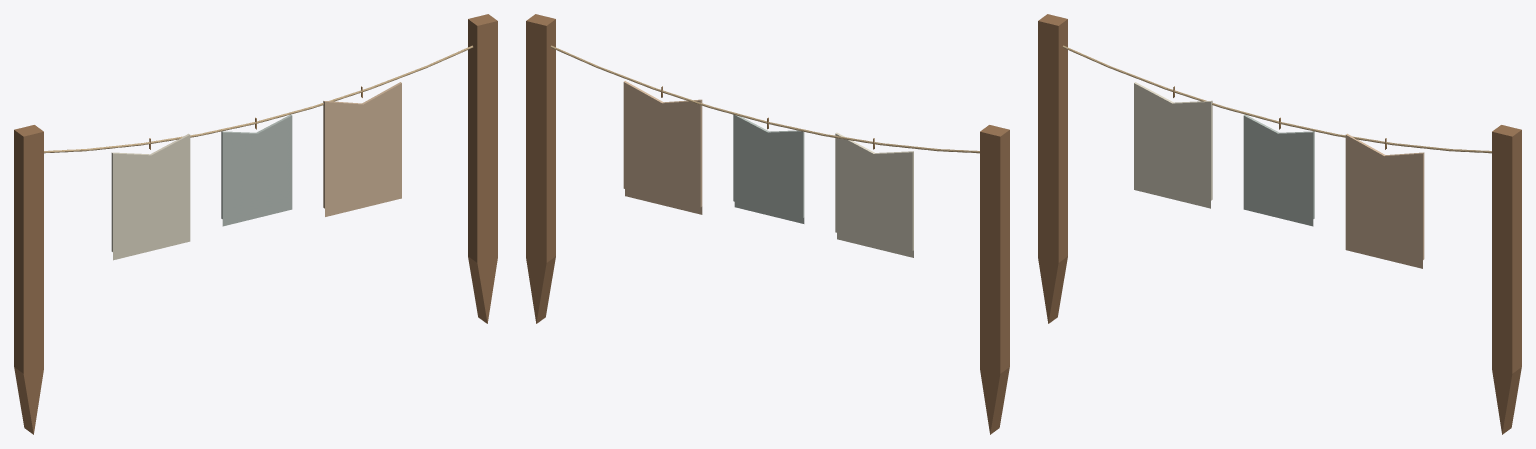
The model's file is london-laundry-frame-derived.glb.
3 renders of one model, left to right at view 1: azimuth 30°, elevation 25°; view 2: azimuth 150°, elevation 25°; view 3: azimuth 330°, elevation 25°, orthographic.
Parts seen in each view (by area): view 1: hanging linen 3, left timber post, right timber post, hanging linen 1, hanging linen 2; view 2: hanging linen 3, left timber post, right timber post, hanging linen 1, hanging linen 2; view 3: hanging linen 3, right timber post, left timber post, hanging linen 1, hanging linen 2.
Boxes of the visible parts, x1,y1,x2,y2 form: hanging linen 3: [323, 82, 401, 216]; left timber post: [14, 125, 43, 434]; right timber post: [468, 14, 497, 323]; hanging linen 1: [111, 133, 190, 260]; hanging linen 2: [221, 114, 292, 226]; hanging linen 3: [623, 81, 702, 214]; left timber post: [980, 125, 1009, 434]; right timber post: [526, 14, 555, 323]; hanging linen 1: [835, 132, 913, 257]; hanging linen 2: [733, 114, 804, 223]; hanging linen 3: [1345, 133, 1424, 268]; right timber post: [1492, 125, 1521, 434]; left timber post: [1038, 14, 1067, 323]; hanging linen 1: [1134, 82, 1212, 208]; hanging linen 2: [1243, 114, 1314, 226].
Bounding box in the file's own units: 3.14 × 1.9 × 0.1088.
